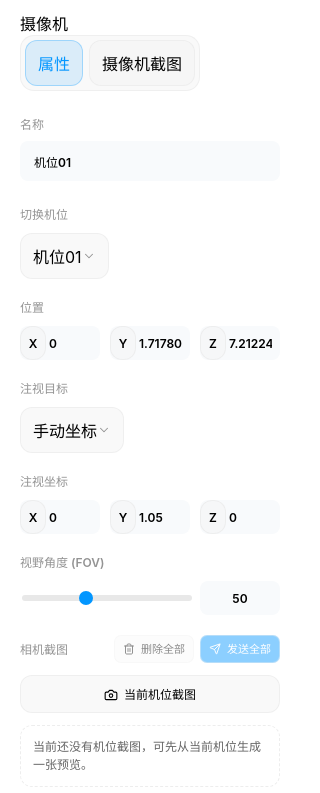
Test: lists visible viewport models as camera focus targets and centers on the selected model
Click the button with aria-label "注视目标模式".
click(72, 430)  # box [20,407,124,453]
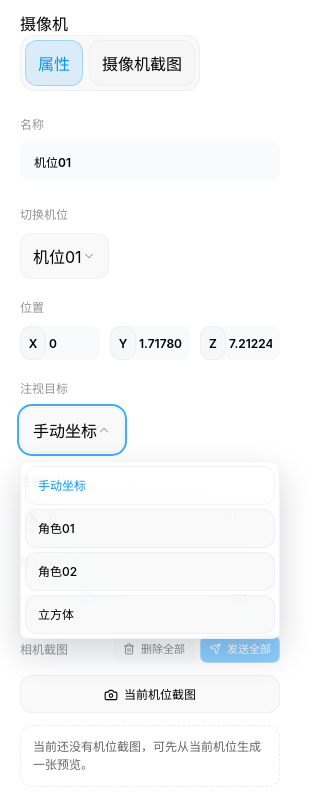
Expected: the options read "手动坐标", "角色01", "角色02", "立方体", in this order
Click the option "角色02".
click(150, 572)  # box [25,552,275,591]
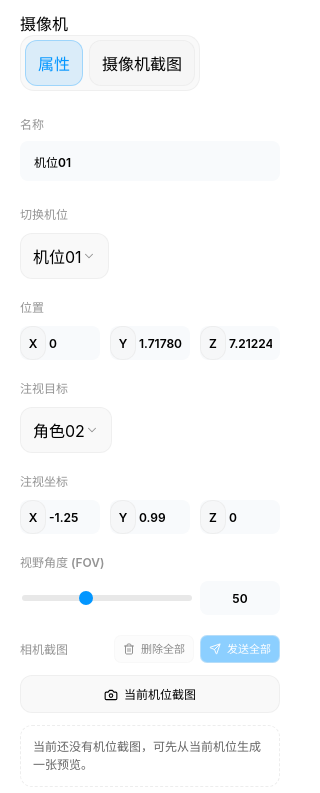
Expected: the button with aria-label "注视目标模式" reads "角色02", [20,407,112,453]
Expected: the number field named "注视坐标 X" holds "-1.25", [43,500,100,534]
Expected: the number field named "注视坐标 Y" holds "0.99", [133,500,190,534]
